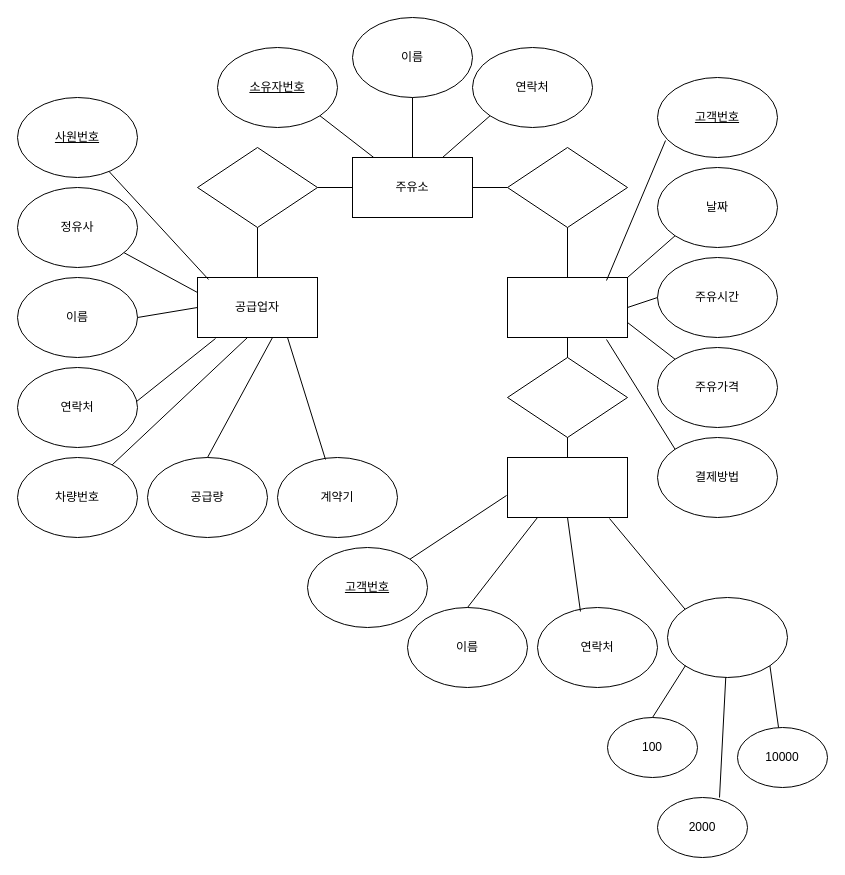
Image size: 845x875. Some labels were removed from this diagram. Here are the shapes that lost their labels. From the top down, the centre of each, then its label:
At point 257,187: "공급".
At point 567,187: "주유".
At point 567,307: "고객".
At point 567,397: "가입".
At point 567,487: "회원".
At point 727,637: "포인트".
